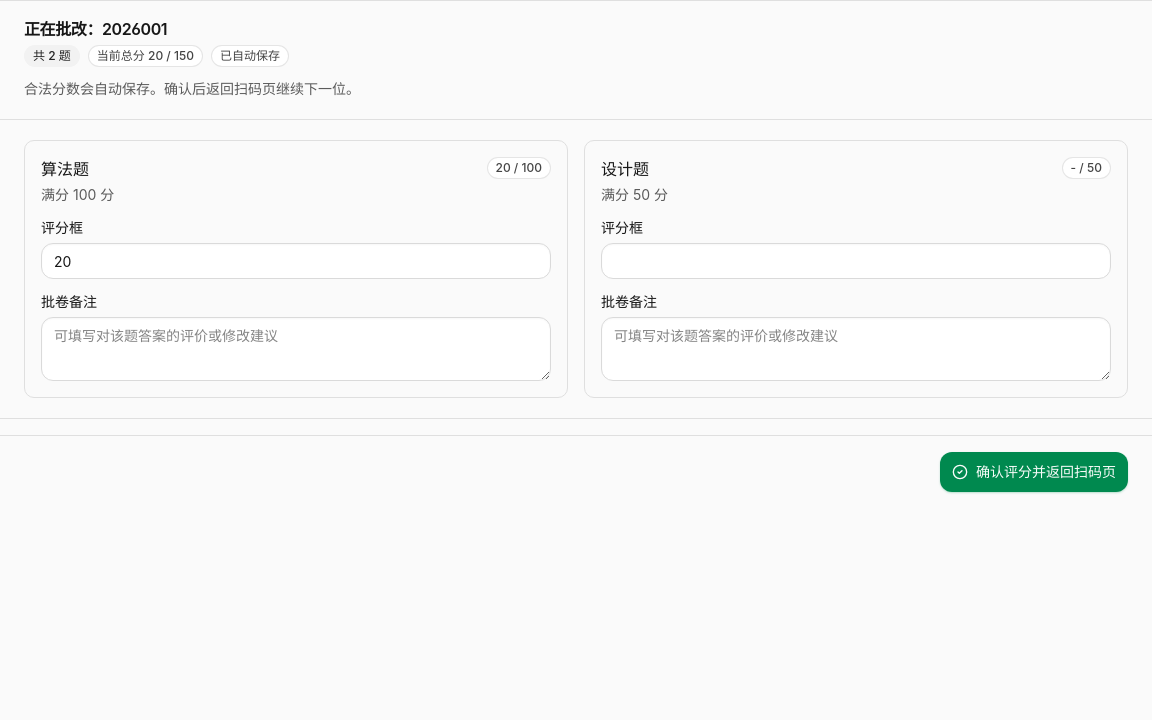
Scenario: MarkProblemTable › turns a problem read-only and reloads scores when the server rejects an autosave
Replace the text in the number field labelled "评分框" below "算法题" with "88" at x=296, y=261, box [41,243,551,279]
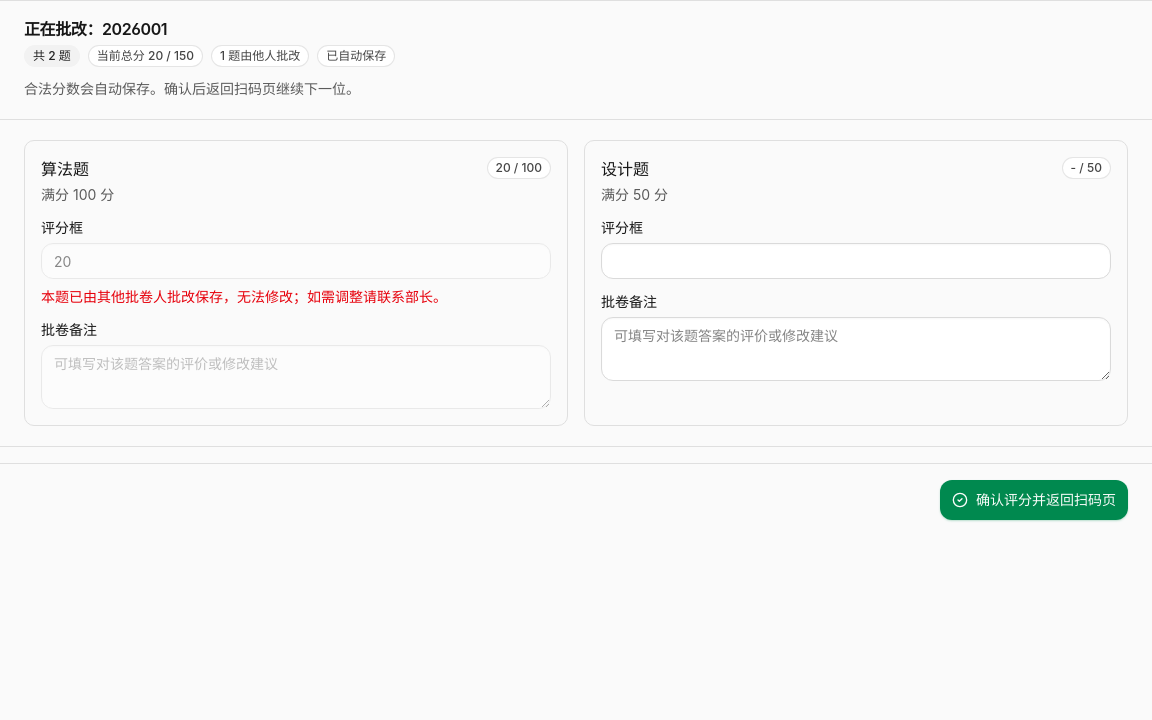
Expected: the text "本题已由其他批卷人批改保存，无法修改；如需调整请联系部长。" is shown, [41,288,447,305]
Expected: the number field labelled "评分框" below "算法题" is disabled, [41,243,551,279]
